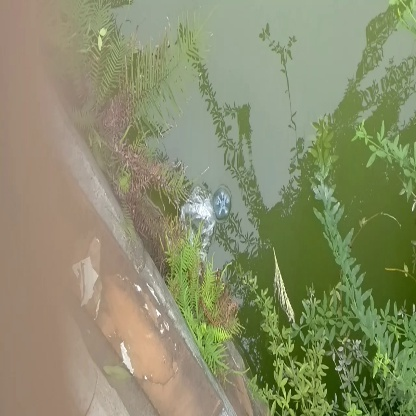bottle: (213, 183, 236, 226)
plastic-bag: (178, 186, 212, 255)
